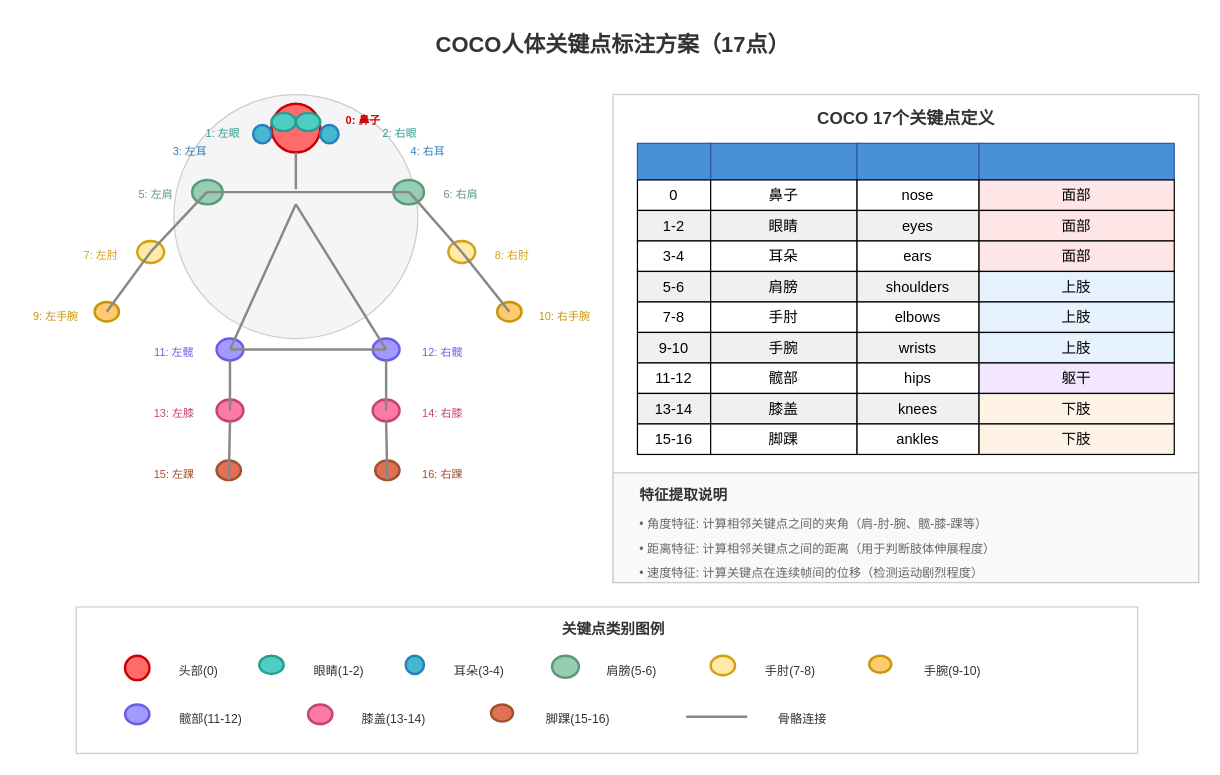
Some shapes in this 1220 by 775 pixel diagram are drawn without their labels. Here are the shapes that lost their labels. From the top down, the centre of each, then its label:
At pixel 673 161: "编号".
At pixel 783 161: "名称".
At pixel 917 161: "英文名".
At pixel 1076 161: "类别".
